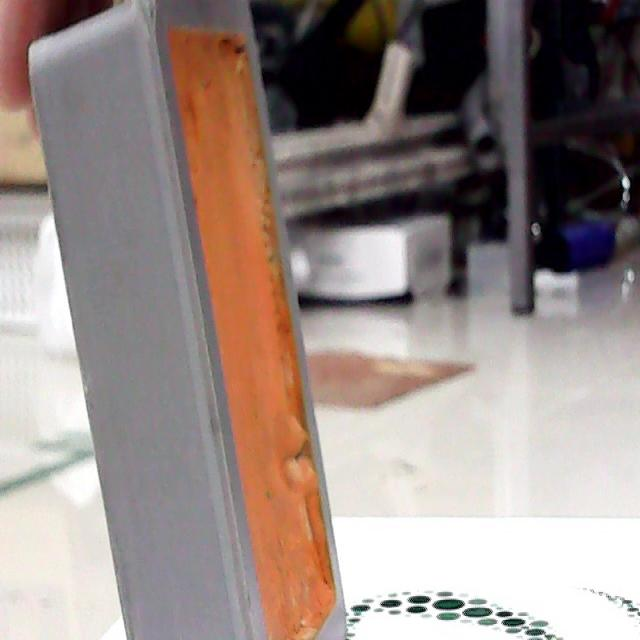block: (28, 3, 343, 640)
